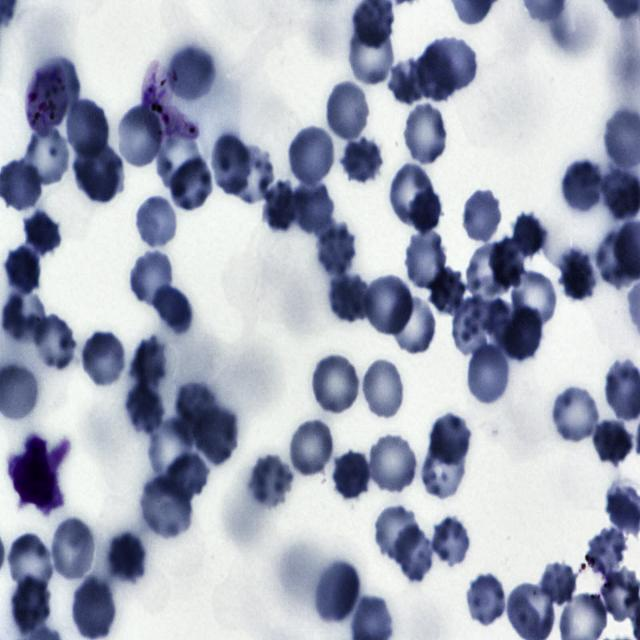leukocyte: (10, 432, 71, 513)
red blood cell: (139, 473, 194, 542), (308, 351, 362, 416), (388, 161, 439, 229), (365, 432, 419, 496), (548, 383, 602, 446), (48, 516, 98, 583), (400, 101, 450, 168), (313, 558, 362, 626), (362, 273, 414, 337), (286, 124, 338, 187), (116, 103, 164, 171), (346, 24, 396, 89), (22, 122, 71, 188), (323, 78, 372, 143), (465, 342, 513, 408), (402, 226, 450, 292), (286, 416, 336, 479), (74, 140, 124, 203), (5, 532, 54, 595), (389, 295, 439, 356), (420, 439, 468, 502), (150, 417, 192, 488), (230, 142, 276, 206), (166, 44, 215, 104), (79, 328, 127, 389), (361, 357, 406, 422), (428, 34, 478, 92), (64, 97, 110, 160), (194, 402, 240, 465), (372, 503, 421, 562), (128, 249, 176, 308), (72, 575, 116, 638), (248, 452, 294, 512), (466, 241, 511, 302), (133, 193, 180, 250), (174, 382, 220, 440), (157, 136, 203, 194), (415, 44, 458, 106), (450, 297, 493, 358), (560, 158, 605, 216), (291, 179, 336, 237), (394, 524, 436, 585), (122, 380, 166, 438), (9, 576, 53, 634), (428, 412, 473, 467), (511, 270, 555, 326), (461, 188, 504, 245), (464, 573, 508, 628), (586, 524, 630, 578), (499, 307, 543, 361), (326, 271, 369, 326), (170, 156, 212, 212), (2, 292, 49, 342), (164, 450, 210, 501), (210, 137, 250, 195), (106, 531, 148, 586), (34, 314, 76, 369), (314, 224, 357, 277), (339, 136, 384, 186), (406, 106, 446, 162), (488, 234, 527, 291), (331, 450, 372, 503), (3, 242, 42, 296), (559, 248, 598, 302), (128, 336, 170, 386), (428, 520, 469, 571), (21, 206, 62, 256), (428, 267, 468, 318), (152, 284, 192, 334), (386, 57, 426, 107), (510, 209, 548, 260), (540, 560, 578, 610), (594, 422, 636, 465), (264, 181, 295, 234)
trophozoite: (144, 61, 200, 140), (24, 62, 73, 133)
